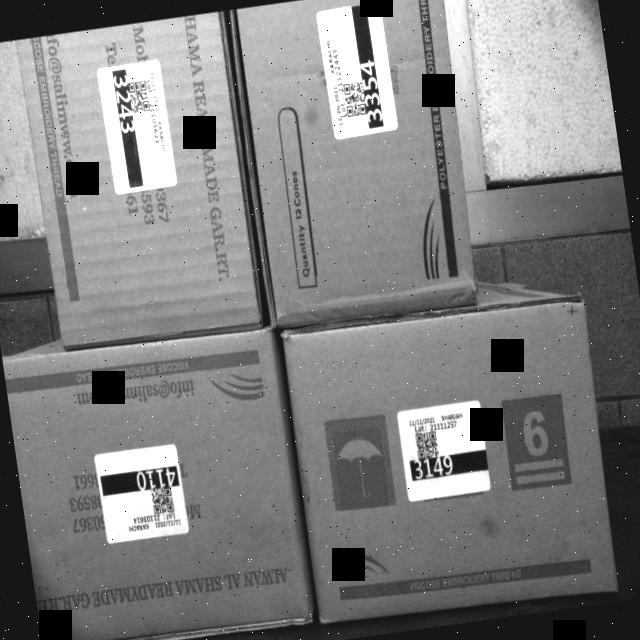box: (279, 288, 622, 632), (2, 324, 319, 640), (18, 11, 264, 362), (229, 0, 482, 332)
